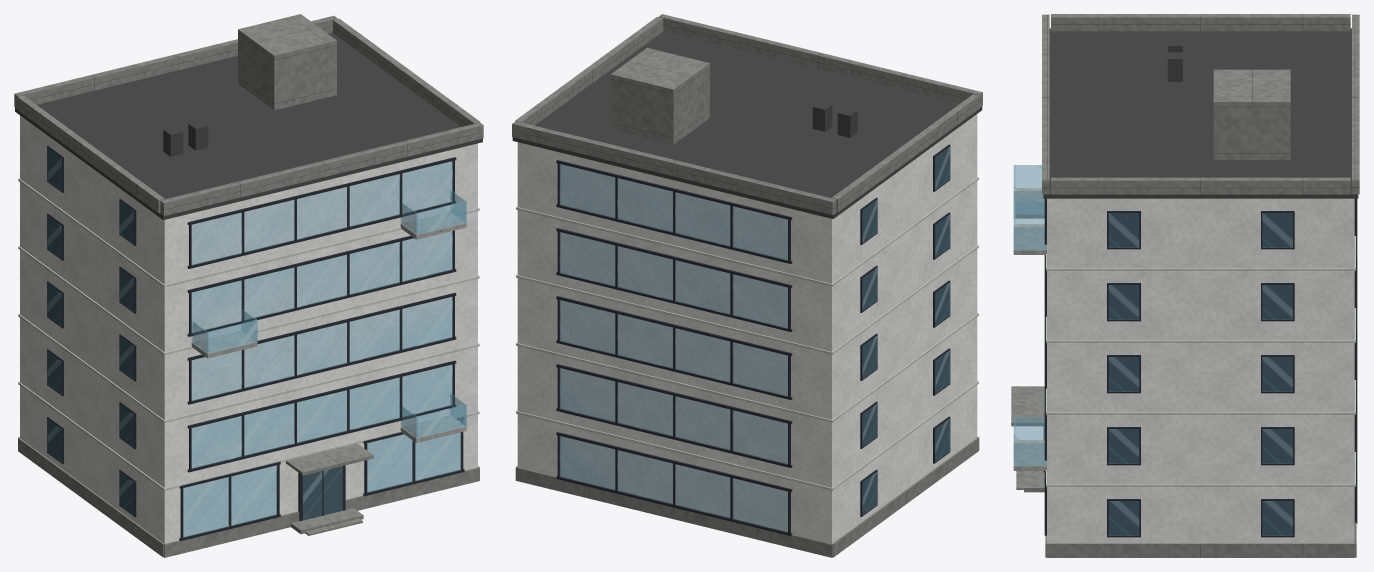
The model's file is apartment_5story_variant_c.glb.
3 renders of one model, left to right at view 1: azimuth 30°, elevation 25°; view 2: azimuth 150°, elevation 25°; view 3: azimuth 270°, elevation 25°, orthographic. The views are drawn at different scales.
Parts seen in each view (by area): view 1: plaster_F0F0EE, glass_87CEEB, flat_4A4A4A, concrete_8C8C88, flat_2A2F36, plaster_D0D0CE, concrete_A8A8A4; view 2: plaster_F0F0EE, glass_87CEEB, flat_4A4A4A, concrete_8C8C88, flat_2A2F36, plaster_D0D0CE; view 3: plaster_F0F0EE, flat_4A4A4A, concrete_8C8C88, flat_2A2F36, glass_87CEEB, plaster_D0D0CE, concrete_A8A8A4.
Boxes of the visible parts, x1=… form: plaster_F0F0EE: x1=20, y1=115, x2=477, y2=543; glass_87CEEB: x1=47, y1=148, x2=466, y2=537; flat_4A4A4A: x1=15, y1=32, x2=482, y2=219; concrete_8C8C88: x1=14, y1=14, x2=483, y2=557; flat_2A2F36: x1=47, y1=146, x2=464, y2=541; plaster_D0D0CE: x1=18, y1=178, x2=479, y2=490; concrete_A8A8A4: x1=191, y1=212, x2=466, y2=442; plaster_F0F0EE: x1=517, y1=114, x2=977, y2=543; glass_87CEEB: x1=559, y1=147, x2=949, y2=532; flat_4A4A4A: x1=512, y1=31, x2=982, y2=218; concrete_8C8C88: x1=512, y1=14, x2=982, y2=557; flat_2A2F36: x1=556, y1=144, x2=950, y2=535; plaster_D0D0CE: x1=516, y1=177, x2=978, y2=490; plaster_F0F0EE: x1=1047, y1=198, x2=1354, y2=543; flat_4A4A4A: x1=1043, y1=28, x2=1358, y2=198; concrete_8C8C88: x1=1011, y1=14, x2=1359, y2=557; flat_2A2F36: x1=1043, y1=198, x2=1357, y2=537; glass_87CEEB: x1=1013, y1=165, x2=1292, y2=535; plaster_D0D0CE: x1=1046, y1=236, x2=1355, y2=486; concrete_A8A8A4: x1=1013, y1=188, x2=1046, y2=470.
Bounding box in the file's own units: 15.4 × 18.2 × 13.6.
Materials: 7 (7 with a texture image).
